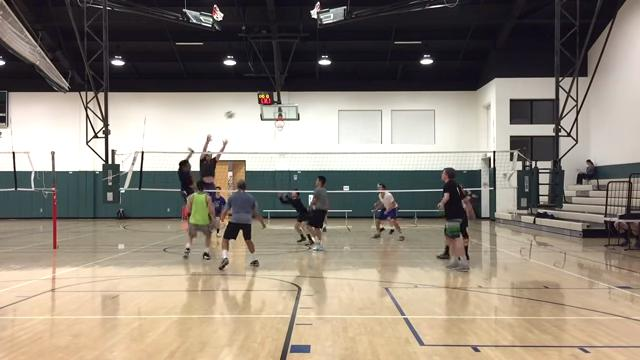Attack: (168, 142, 196, 221)
Block: (196, 131, 232, 199)
Player: (219, 180, 265, 269), (438, 168, 468, 271), (184, 180, 214, 259), (373, 184, 404, 240), (279, 189, 311, 242), (307, 176, 328, 250), (458, 184, 474, 260), (458, 184, 474, 259), (213, 186, 225, 236), (322, 212, 327, 231)
ball: (224, 110, 236, 120)
